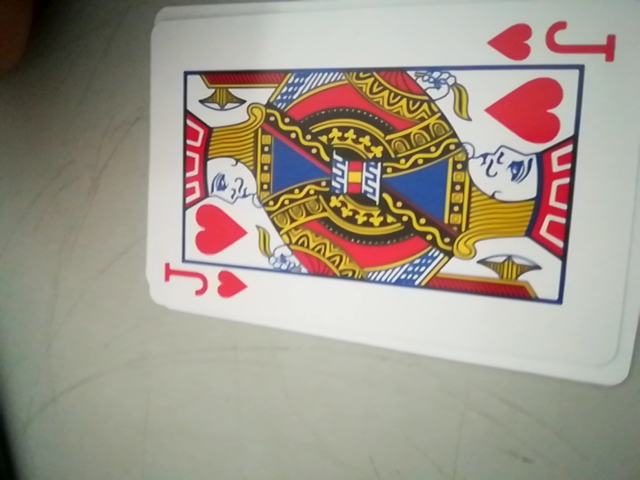hx j: (158, 259, 253, 308)
